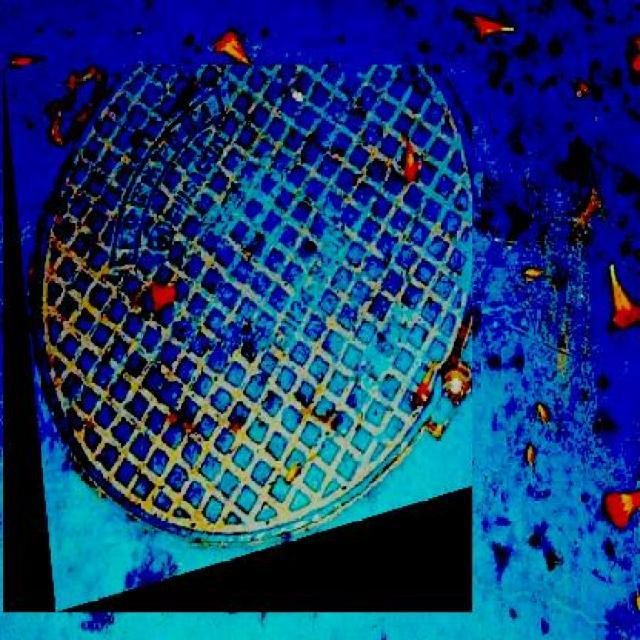Manhole: (3, 65, 472, 612)
